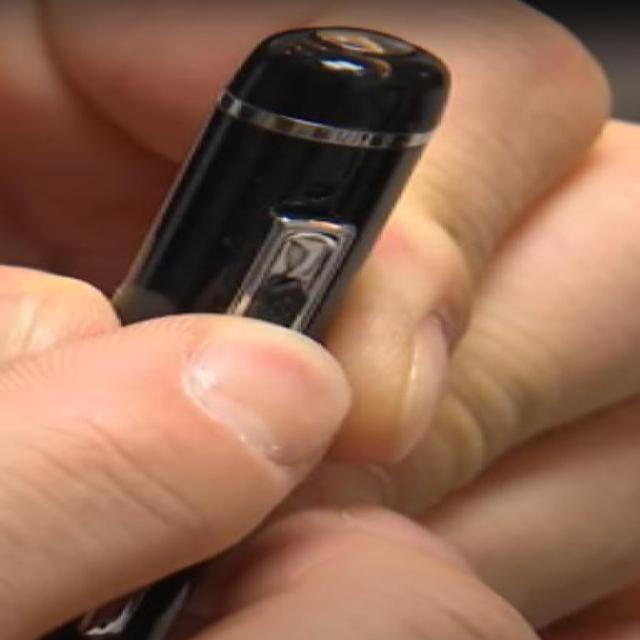hidden camera: (286, 167, 351, 212)
